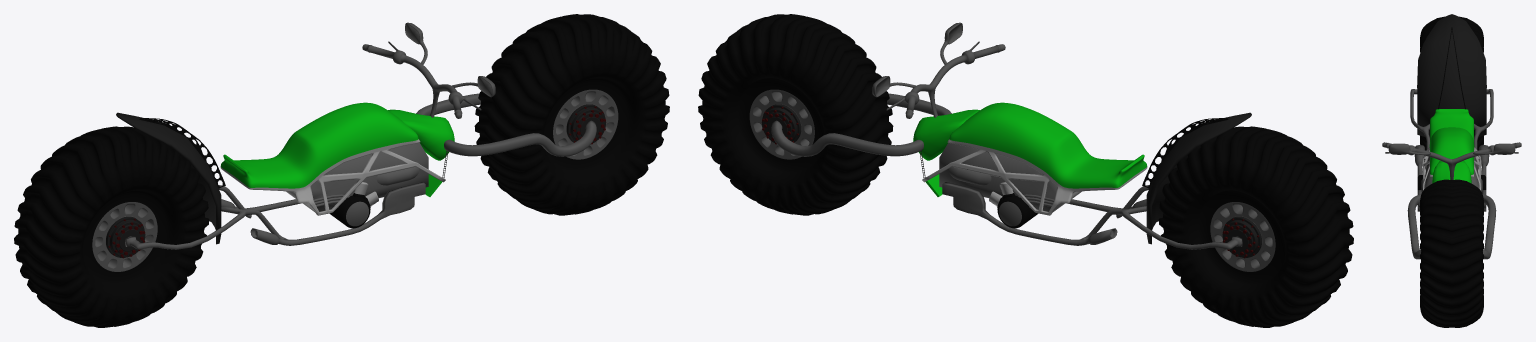
Rendered from FullMotoPredone.fbx.
3 renders of one model, left to right at view 1: azimuth 30°, elevation 25°; view 2: azimuth 150°, elevation 25°; view 3: azimuth 270°, elevation 25°, orthographic. The views are drawn at different scales.
Visible parts, largest first — view 1: WheeelTire, WheeelTire.001, MotoSeat, EngineInsides, BotTube, Cylinder, Cube, FrontRul', LowerBoxRul'2, BackDetail; view 2: WheeelTire, WheeelTire.001, MotoSeat, EngineInsides, BotTube, Cylinder, Cube, FrontRul', LowerBoxRul'2, BackDetail; view 3: WheeelTire.001, Cube, MotoSeat, FrontRul', BotTube, Cylinder, WheeelTire, LowerBoxRul'2, EngineInsides, BackDetail.
Part boxes in pixels (x1,y1,x2,y2): WheeelTire: (14, 126, 209, 327); WheeelTire.001: (474, 14, 669, 215); MotoSeat: (220, 102, 445, 215); EngineInsides: (310, 142, 428, 228); BotTube: (125, 182, 425, 249); Cylinder: (416, 93, 596, 156); Cube: (116, 112, 221, 244); FrontRul': (362, 22, 495, 118); LowerBoxRul'2: (388, 109, 454, 160); BackDetail: (139, 118, 225, 188); WheeelTire: (1158, 126, 1353, 327); WheeelTire.001: (698, 14, 893, 215); MotoSeat: (922, 102, 1147, 215); EngineInsides: (939, 142, 1057, 228); BotTube: (942, 182, 1242, 249); Cylinder: (771, 93, 951, 156); Cube: (1146, 112, 1251, 244); FrontRul': (872, 22, 1005, 118); LowerBoxRul'2: (913, 109, 979, 160); BackDetail: (1142, 118, 1228, 188); WheeelTire.001: (1420, 179, 1483, 327); Cube: (1417, 14, 1486, 136); MotoSeat: (1422, 109, 1481, 190); FrontRul': (1382, 142, 1521, 179); BotTube: (1410, 89, 1493, 211); Cylinder: (1407, 194, 1496, 259); WheeelTire: (1420, 16, 1483, 150); LowerBoxRul'2: (1432, 161, 1471, 183); EngineInsides: (1417, 156, 1486, 191); BackDetail: (1438, 27, 1465, 109).
Bounding box in the file's own units: 1197 × 363 × 313.
